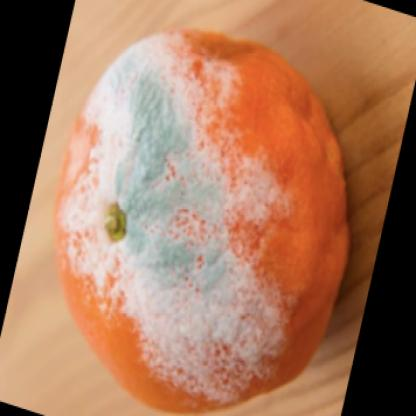rotten: (57, 32, 352, 416)
